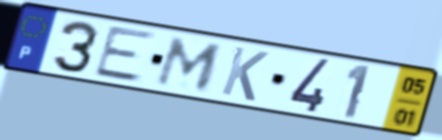1: (342, 63, 374, 122)
3: (51, 19, 101, 75)
4: (286, 57, 331, 115)
E: (90, 25, 160, 85)
K: (218, 44, 272, 104)
M: (152, 35, 227, 94)
